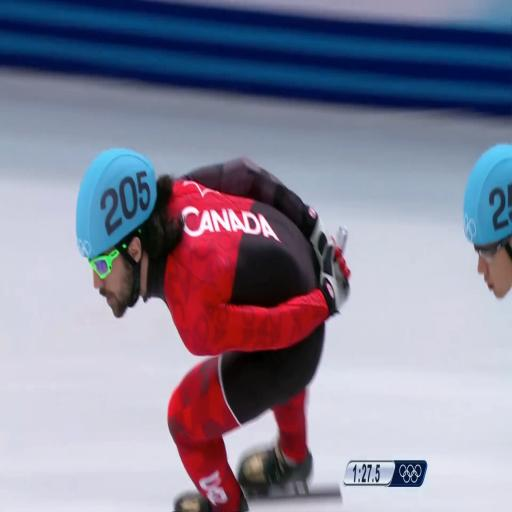Skater: (76, 149, 349, 511), (463, 144, 511, 298)
